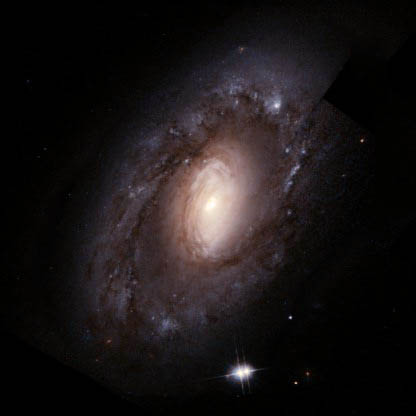NGC 4102: (74, 29, 326, 397)
